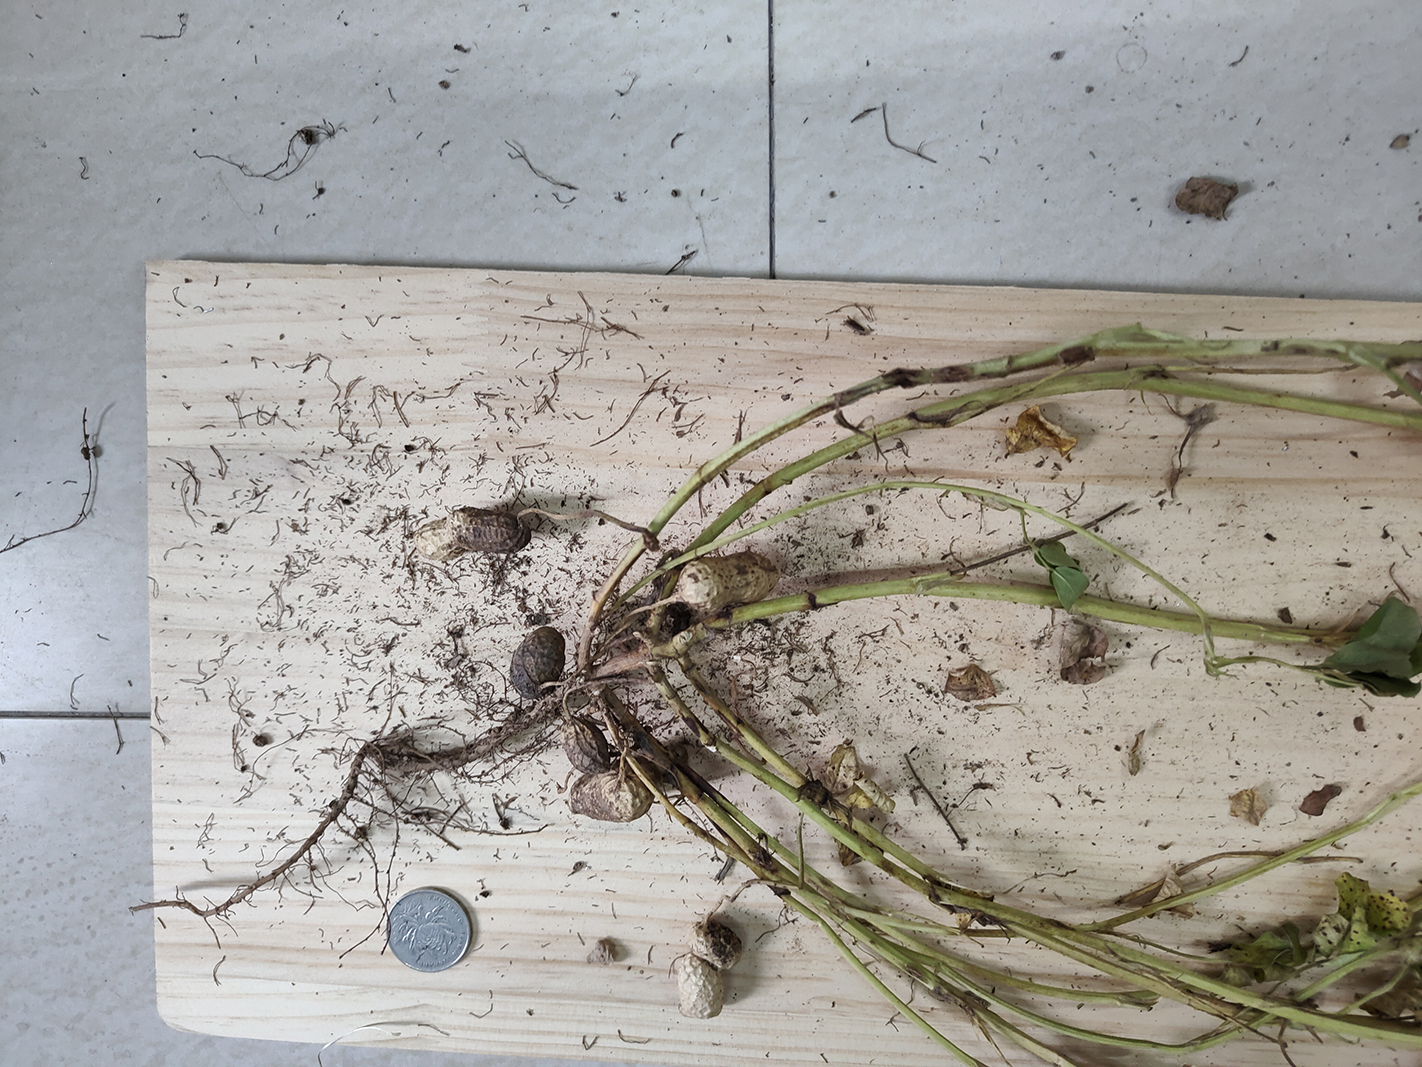h: (671, 920, 738, 1023), (678, 548, 782, 612)
l: (413, 508, 531, 558), (565, 770, 656, 823), (508, 625, 567, 700), (561, 721, 612, 773)
